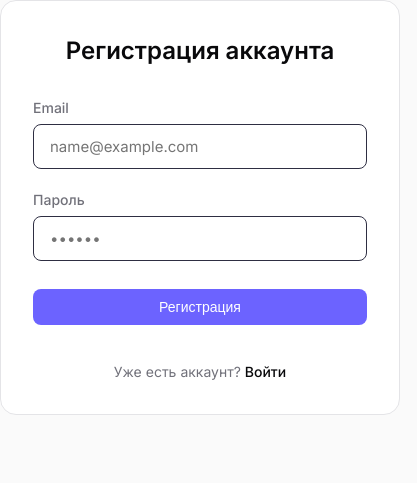
Компонент RegisterForm › показывает ошибки валидации Zod, если отправить пустую форму
This screenshot has width=417, height=483.
Click the button "Регистрация" at (200, 307), box [33,289,367,325]
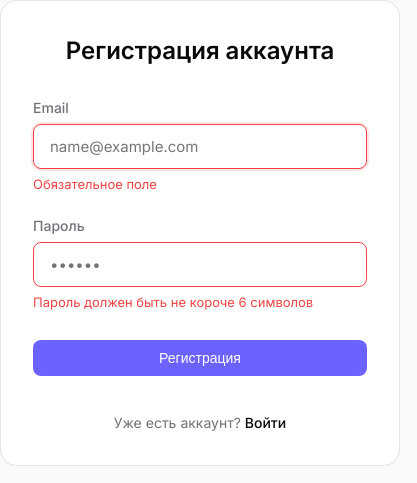
Now the text "Обязательное поле" is shown, box [33,176,157,192]
Now the text "Пароль должен быть не короче 6 символов" is shown, box [33,294,313,310]
